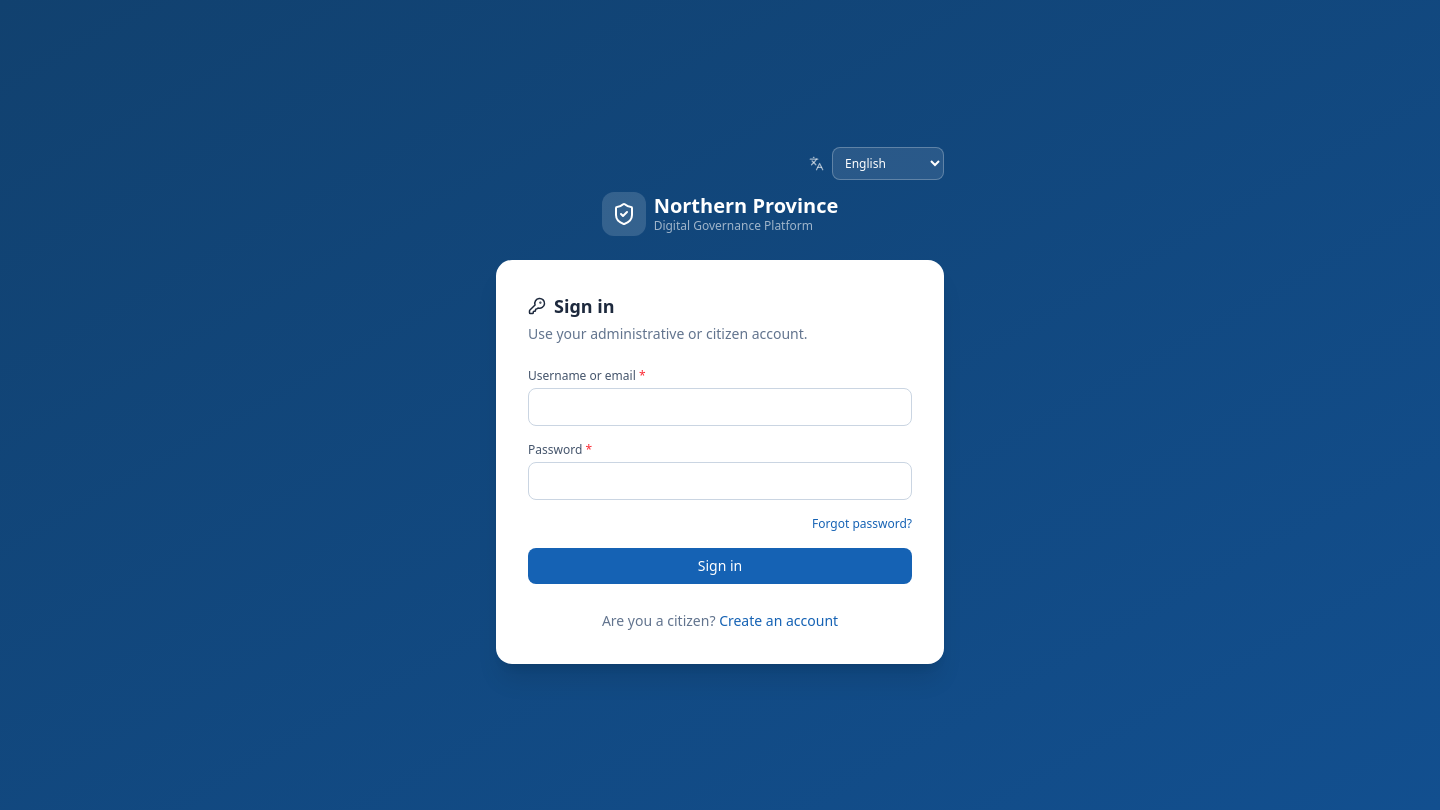
it: Login › shows an error when the credentials are invalid
Type "citizen" into the field labelled "Username or email *".
click(720, 406); type("citizen")  # box [528,388,912,426]
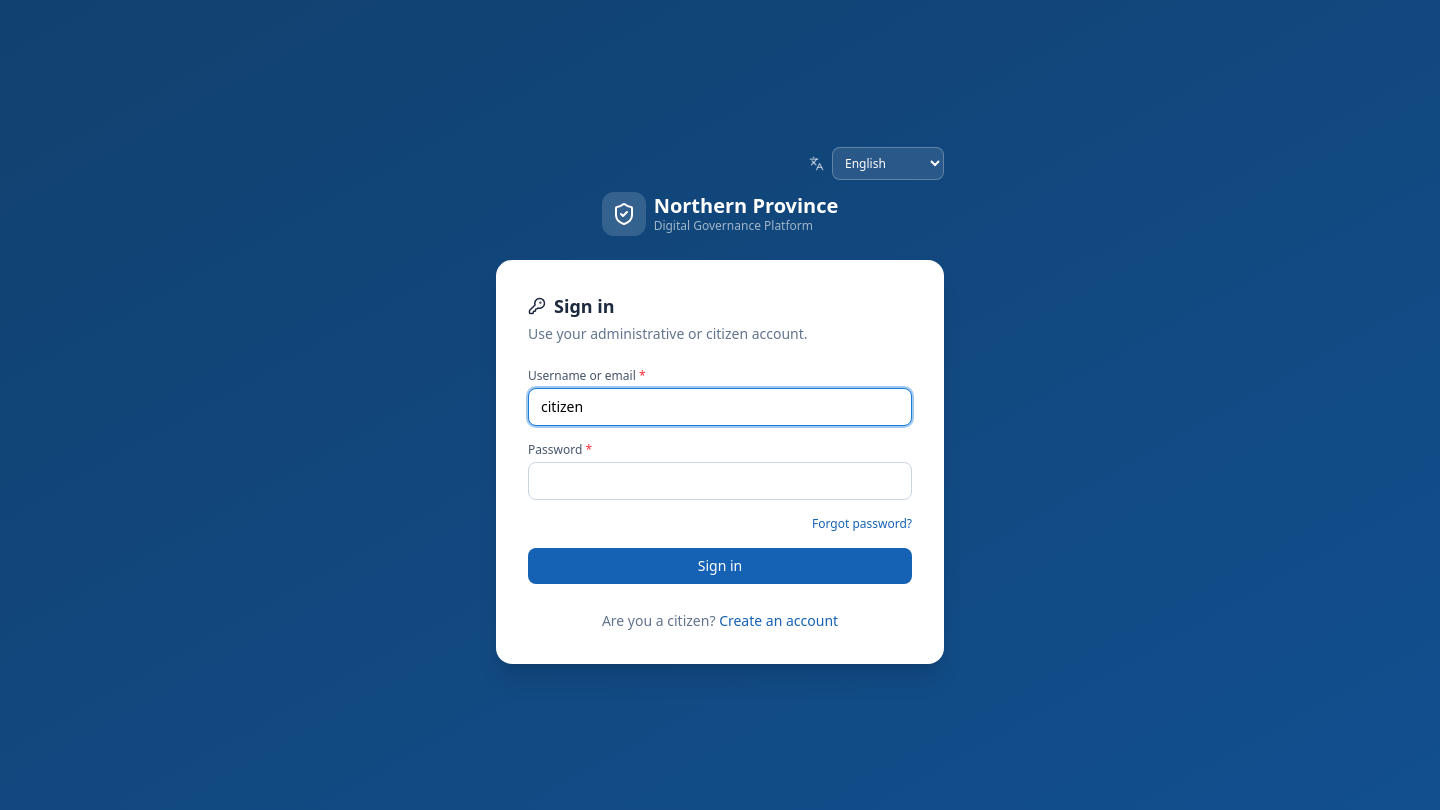
Type "Citizen@123" into the password field labelled "Password *".
click(720, 480); type("Citizen@123")  # box [528,462,912,500]
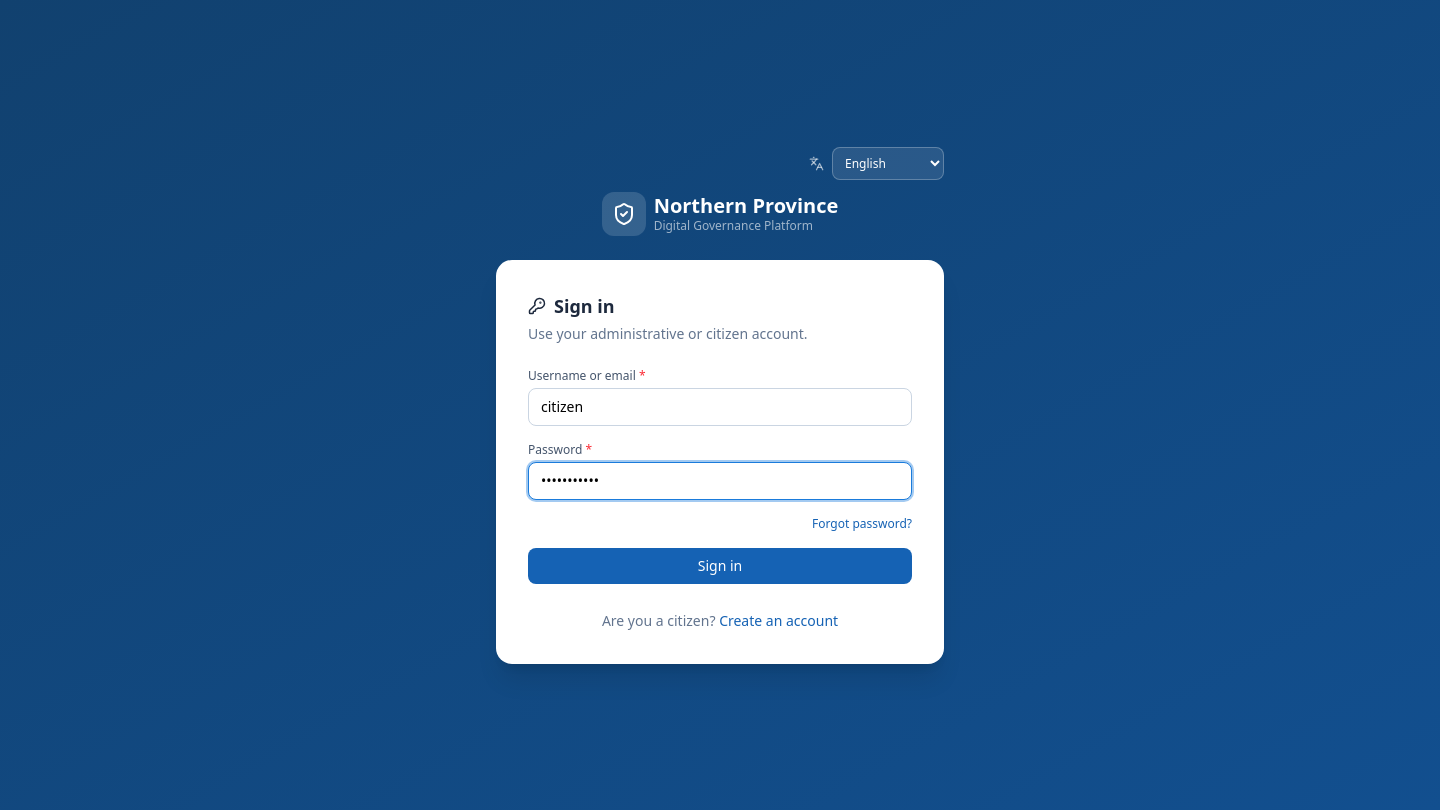
Click the button "Sign in".
click(720, 566)  # box [528,548,912,584]
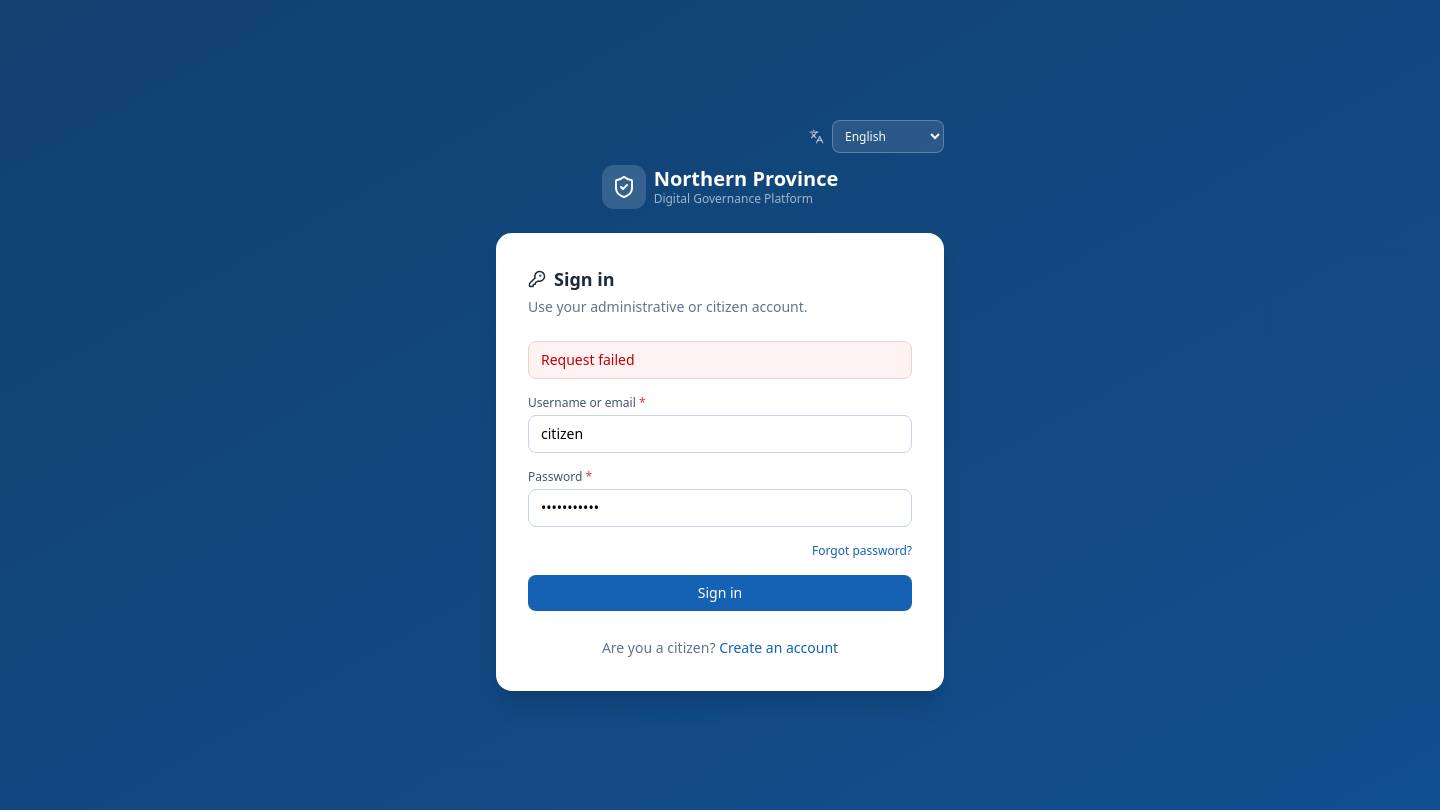
Expected: the text "Request failed" is shown, [528,340,912,378]
